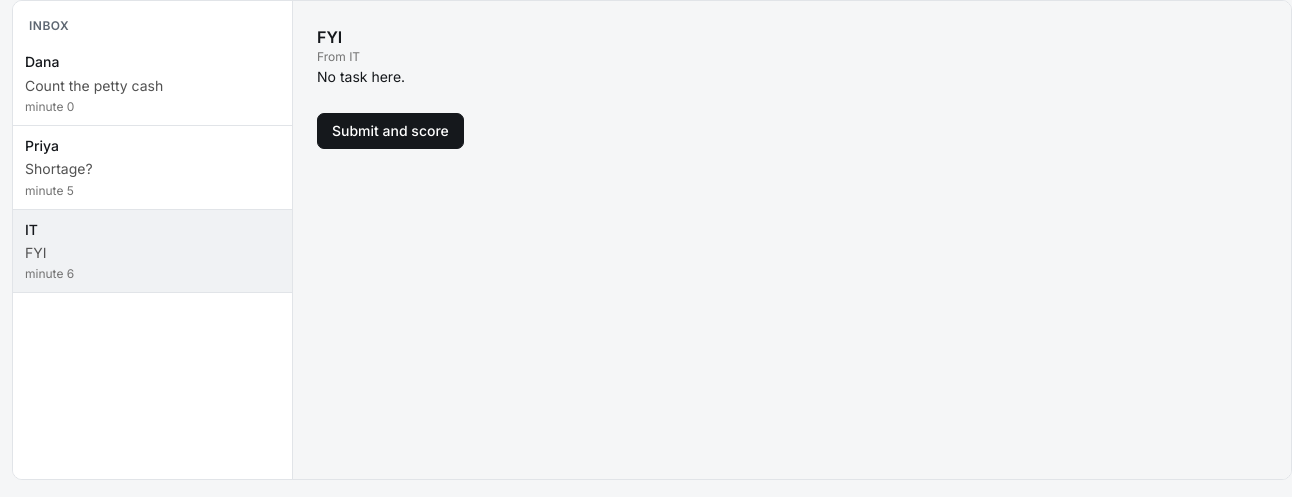
Test case: DevWorkspace › clears an old error on the next try
Click the button "Submit and score". click: (390, 131)
box: [317,113,464,149]
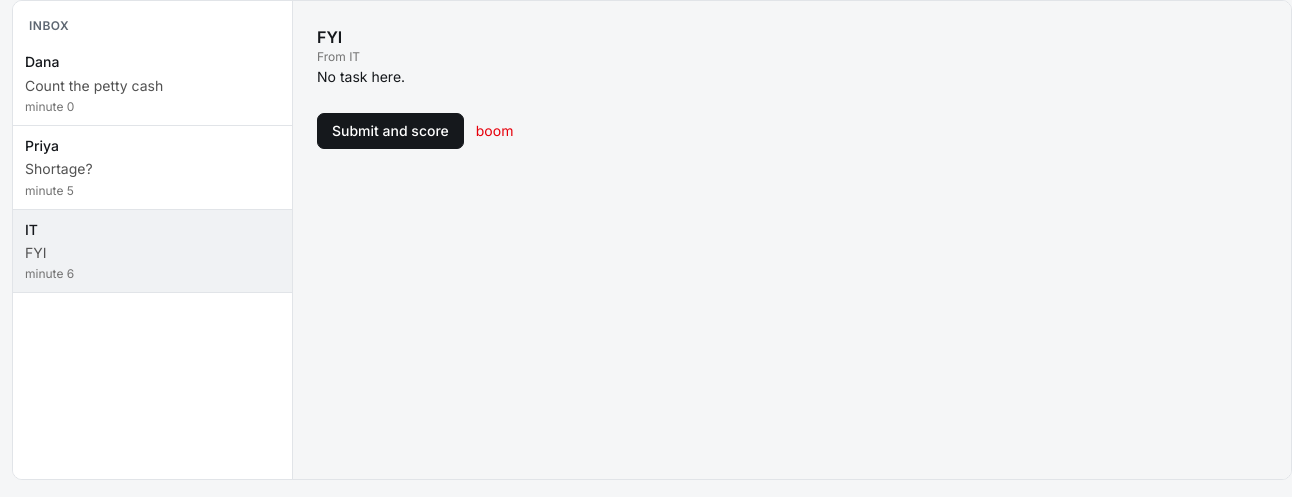
Expected: the text "boom" is shown, [476,121,513,141]
Click the button "Submit and score". click: (390, 131)
box: [317,113,464,149]
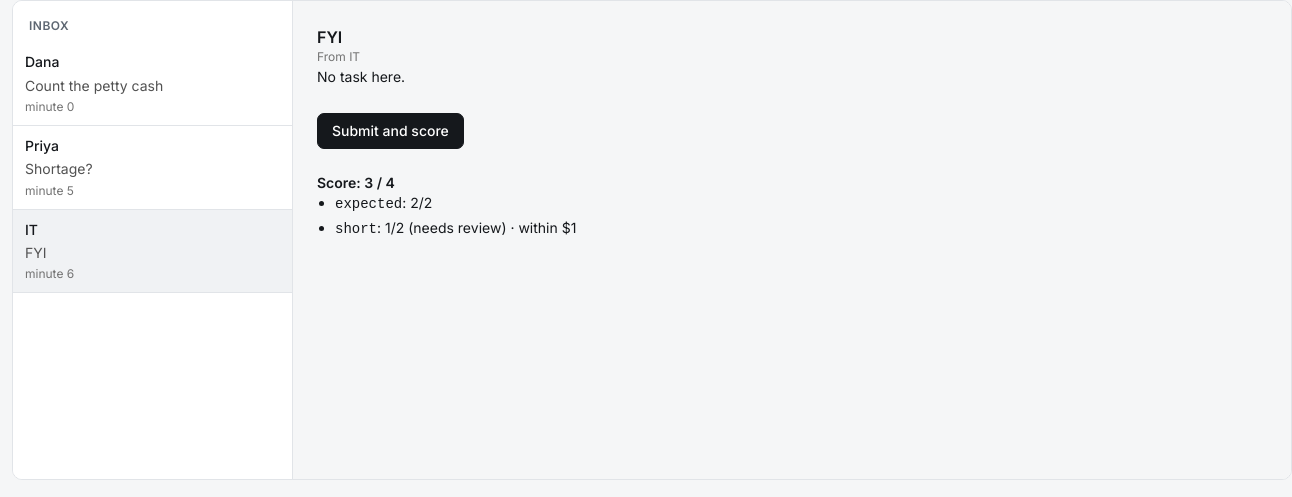
Expected: the element with test id "score" is shown, [317,174,576,237]
Expected: the text "boom" is gone
